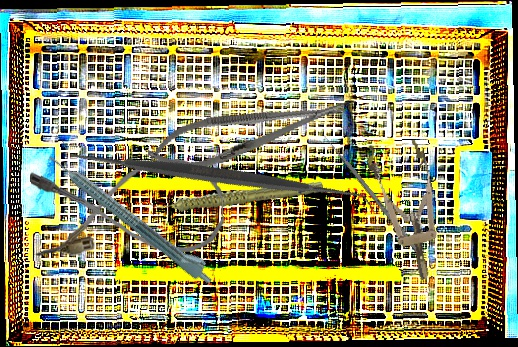Cannula: (29, 157, 226, 260)
Handpiece: (45, 144, 220, 289), (147, 160, 324, 230)
Needle Holder: (142, 84, 352, 182)
Pusher: (318, 129, 421, 254)
Spatula Surgical: (61, 19, 375, 333)
Speculum: (363, 134, 453, 286)
